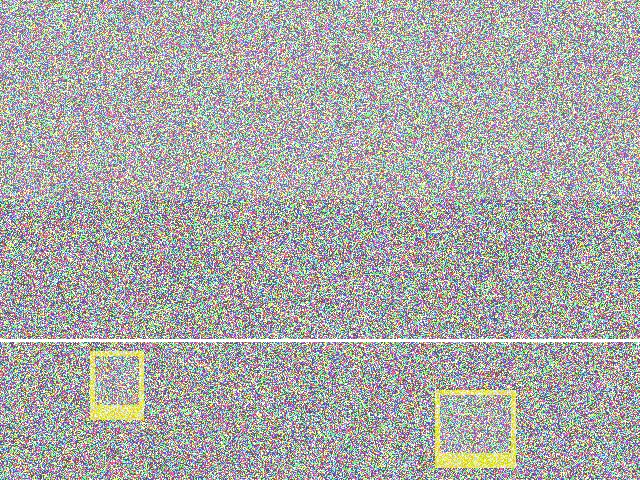car: (348, 155, 450, 270)
motorcycle: (313, 125, 504, 242)
